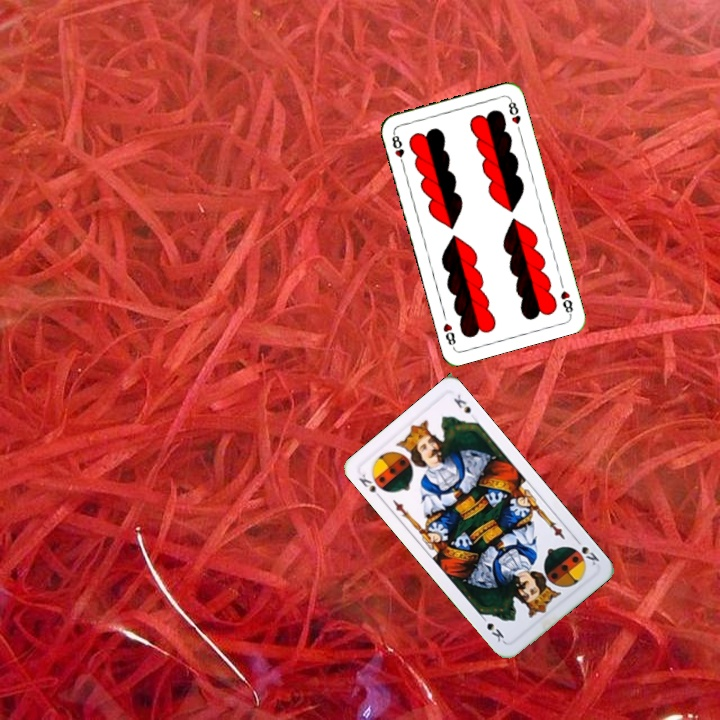H8: (388, 129, 407, 169), (556, 286, 576, 318)
SK: (354, 470, 389, 503), (571, 534, 602, 568)
